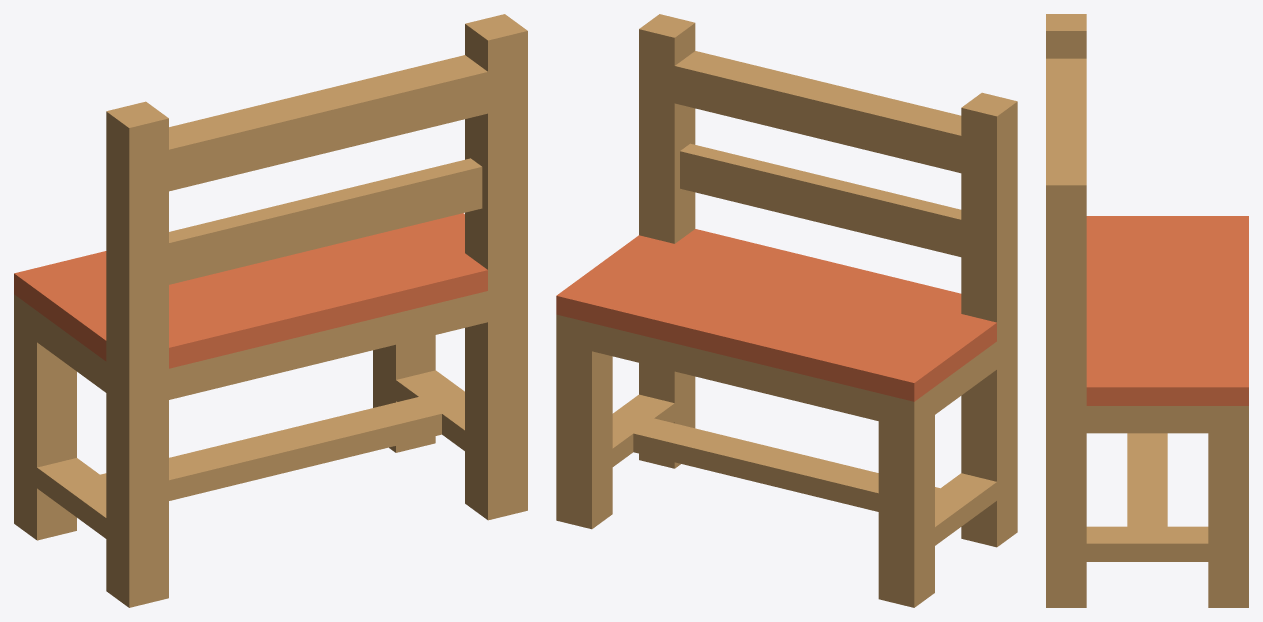
File: benchCushion.glb
3 views of the same model, side by side, from view 1: azimuth 30°, elevation 25°; view 2: azimuth 150°, elevation 25°; view 3: azimuth 270°, elevation 25° (orthographic). The views are drawn at different scales.
Bounding box in the file's own units: 4 × 4.6 × 2.
